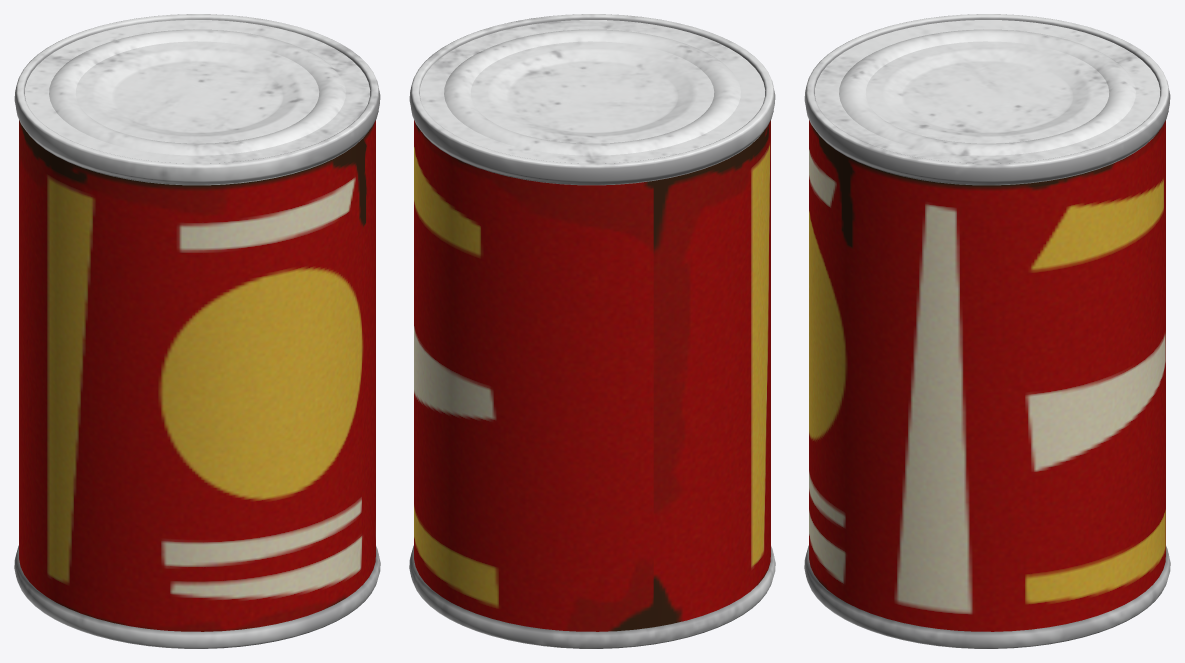
The model's file is SM_FoodCan04.fbx.
3 renders of one model, left to right at view 1: azimuth 30°, elevation 25°; view 2: azimuth 150°, elevation 25°; view 3: azimuth 270°, elevation 25°, orthographic.
Visible parts, largest first — view 1: SM_FoodCan04_LOD0; view 2: SM_FoodCan04_LOD0; view 3: SM_FoodCan04_LOD0.
Part boxes in pixels (x1=…): SM_FoodCan04_LOD0: x1=14, y1=14, x2=380, y2=648; SM_FoodCan04_LOD0: x1=409, y1=14, x2=775, y2=648; SM_FoodCan04_LOD0: x1=804, y1=14, x2=1170, y2=648.
Bounding box in the file's own units: 10.33 × 10.33 × 15.16.
Materials: 1 (1 with a texture image).
